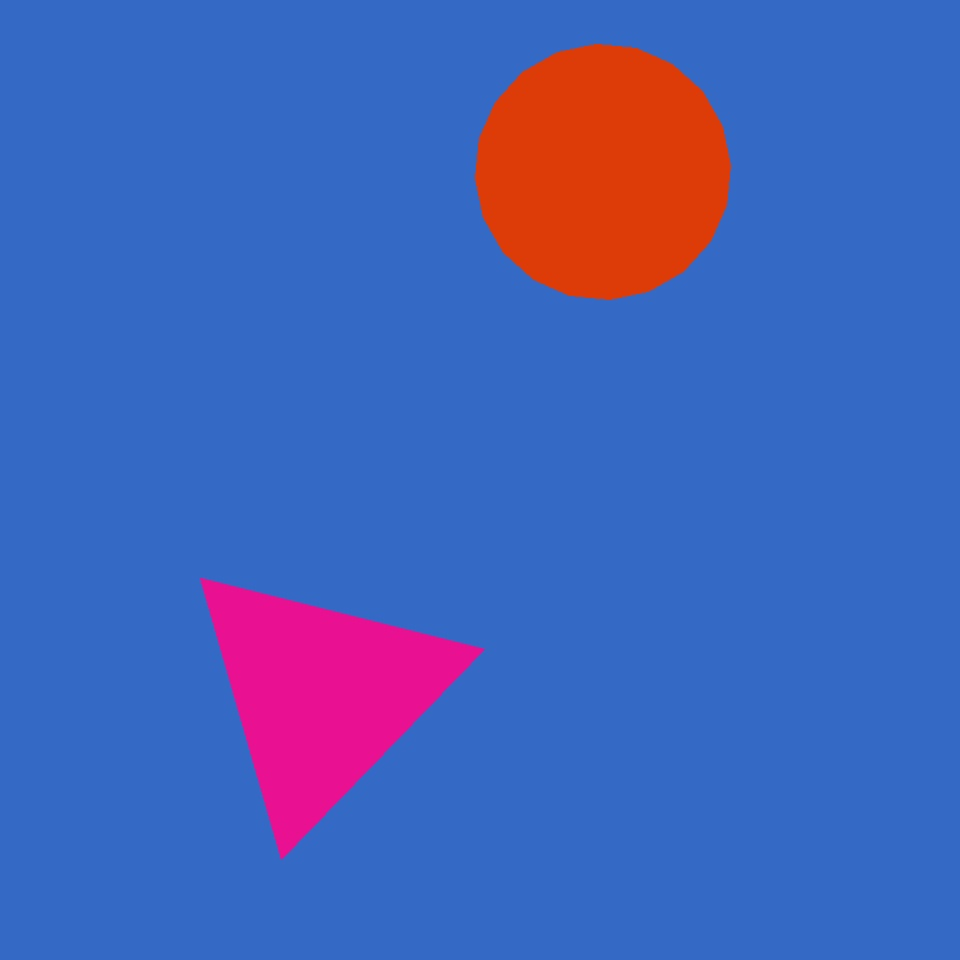circle: (180, 556, 464, 836), (454, 319, 725, 599), (158, 409, 272, 540)
triangle: (414, 598, 677, 861), (476, 44, 730, 300), (462, 277, 587, 402)
